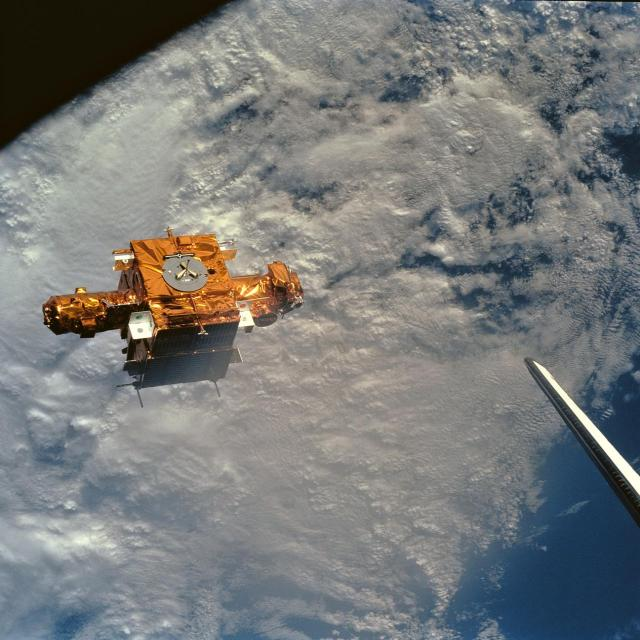medium_debris: (43, 229, 304, 394)
